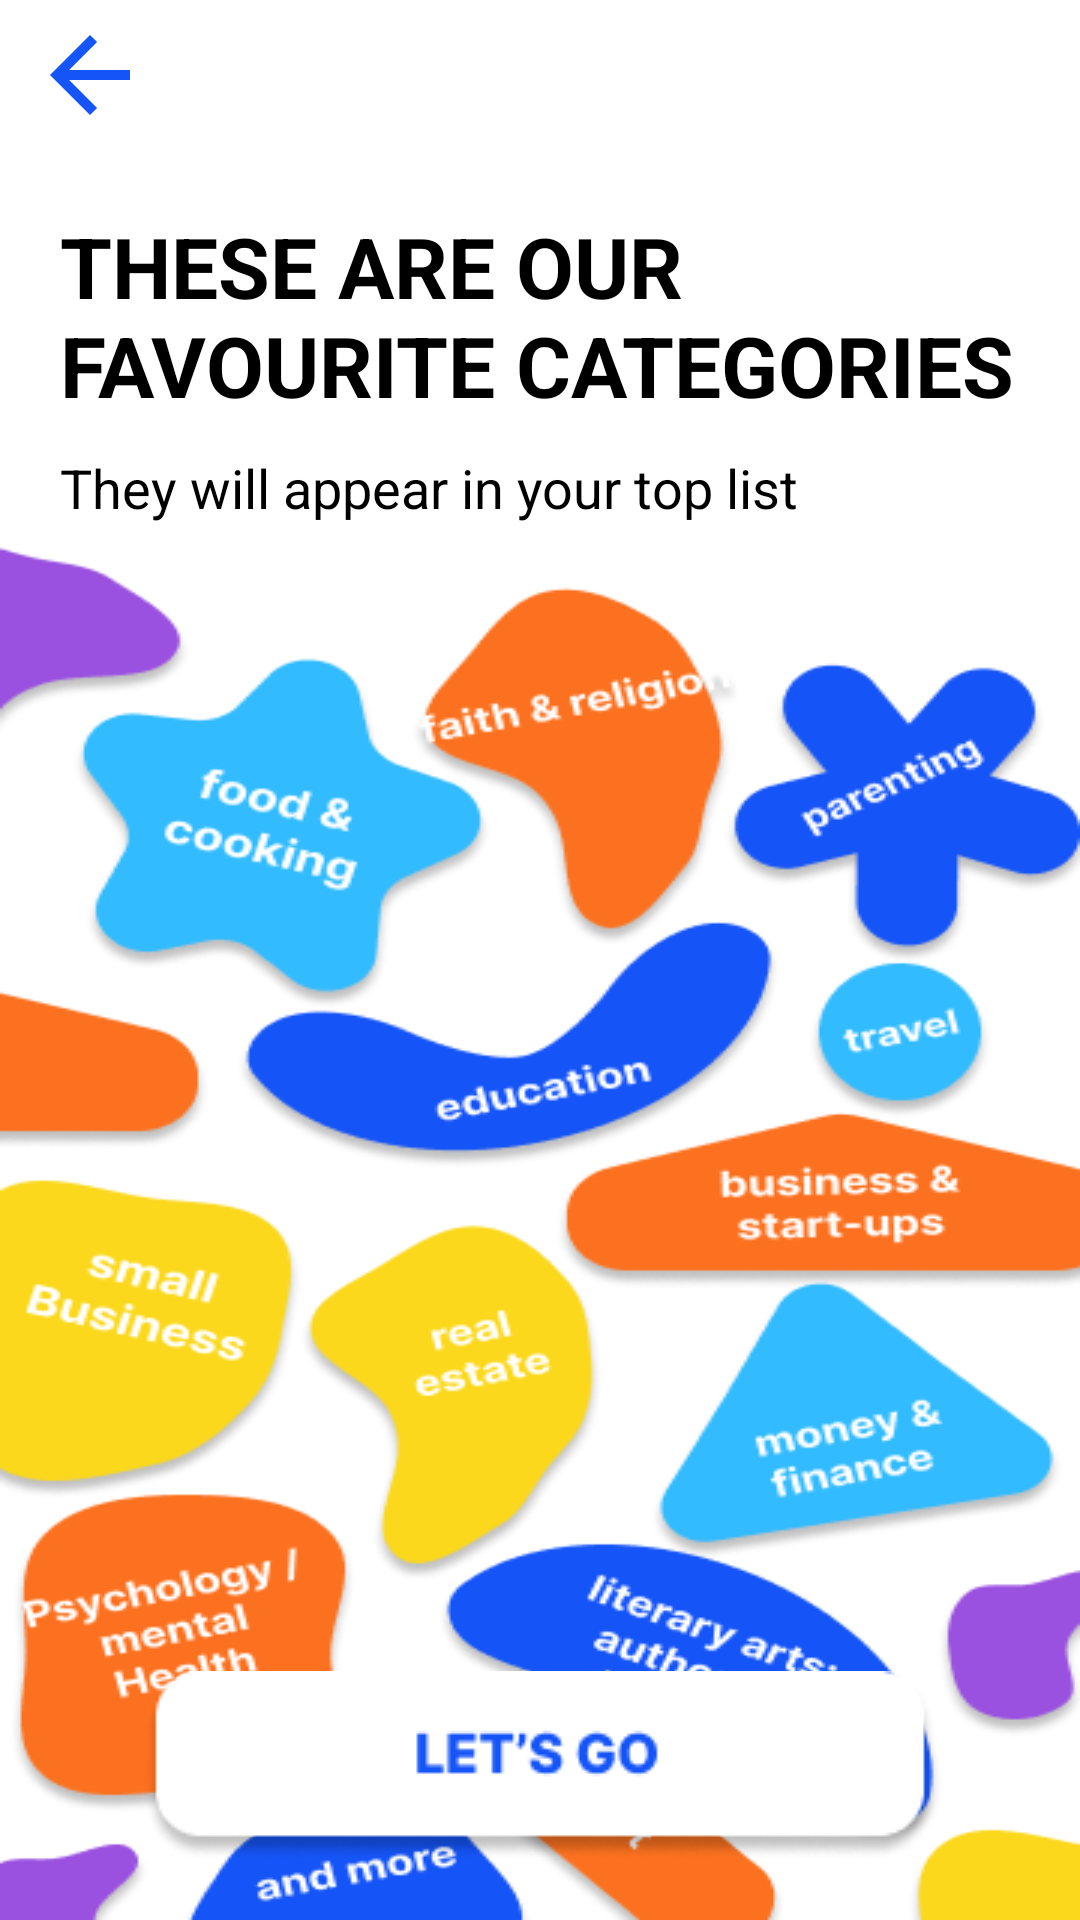

Locate icon controls on the screen. Image size 1080px×1920px, boxes as region(x1, y1, x2, y2).
arrow back: region(50, 35, 130, 115)
